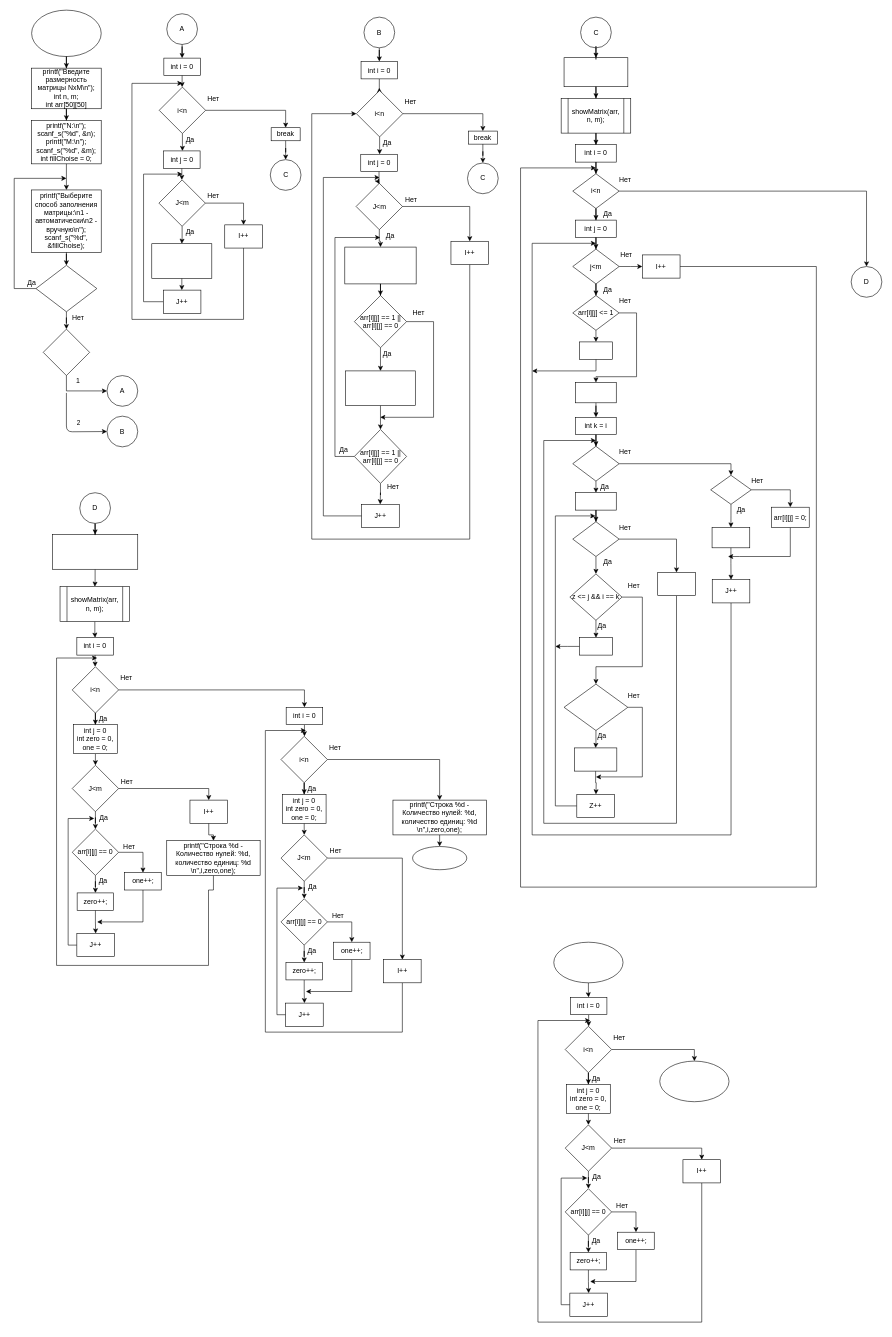
Some shapes in this 892 by 1337 pixel diagram are drawn without their labels. Here are the shapes that lost their labels. From the top down, the box of each, then its label:
(31, 10, 101, 57): Начало
(563, 57, 628, 87): printf("Полученная матрица:\n");
(151, 243, 212, 279): arr[i][j] = 2 + (rand() % (20 - 2 + 1));
(344, 246, 416, 284): printf("arr[%d][%d] = ", i, j); scanf_s("%d",(&arr[i][j]));
(35, 265, 97, 312): fillChoise < 1 || fillChoise>2
(43, 329, 90, 376): fillChoise
(579, 341, 612, 359): continue j++
(345, 370, 415, 406): printf("Матрица не должна содержать нулей и единиц\n");
(575, 382, 616, 403): char founded = 0;
(572, 446, 619, 481): k<n
(575, 492, 616, 510): int z = 0
(710, 475, 751, 504): founded
(52, 534, 138, 569): printf("Преобразованная матрица:\n");
(572, 521, 619, 557): z<m
(711, 527, 750, 548): arr[i][j] = 1;
(657, 572, 695, 596): K++
(579, 637, 612, 655): continue Z++
(563, 684, 628, 731): arr[i][j] == arr[k][z]
(574, 747, 617, 771): arr[k][z] = 1; founded = 1;
(412, 846, 467, 870): Конец
(553, 942, 623, 983): void showMatrix(int arr[50][50], int n, int m)
(659, 1061, 729, 1102): Выход из метода
